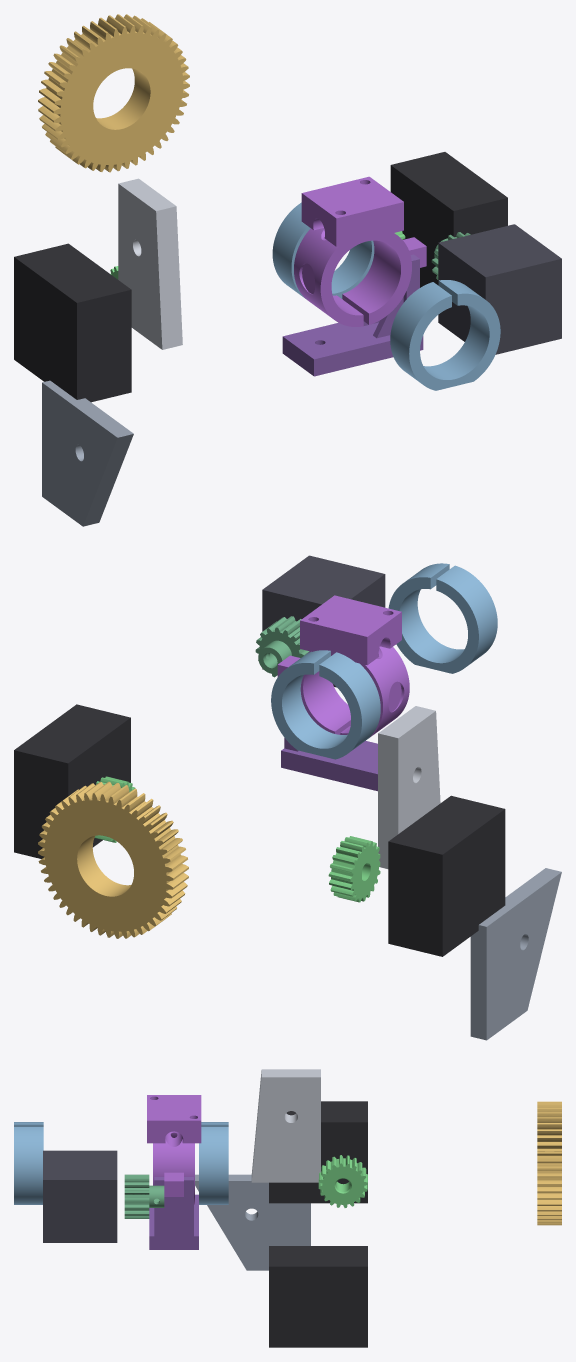
File: full_assembly.glb
The picture shows the model from 3 angles, top to bottom: view 1: azimuth 30°, elevation 25°; view 2: azimuth 150°, elevation 25°; view 3: azimuth 270°, elevation 25°; orthographic projection. The views are drawn at different scales.
Parts seen in each view (by area): view 1: storage_auger_full_1, mg996r_neg_x, tap_collar_1, nema11_motor, baseplate_1, mounting_plate_1, mg996r_pos_x, auger_bracket_2, tap_collar_mount_1, auger_bracket_1; view 2: storage_auger_full_1, mg996r_neg_x, mg996r_pos_x, tap_collar_1, baseplate_1, auger_bracket_1, mounting_plate_1, auger_bracket_2, nema11_motor, tap_collar_mount_1, servo_pinion_2, stepper_pinion_1; view 3: mg996r_pos_x, mounting_plate_1, nema11_motor, baseplate_1, tap_collar_1, mg996r_neg_x, storage_auger_full_1, tap_collar_mount_1, auger_bracket_1, auger_bracket_2, servo_pinion_2, stepper_pinion_1.
Boxes of the visible parts, x1,y1,x2,y2 form: storage_auger_full_1: [38, 14, 189, 172]; mg996r_neg_x: [14, 243, 131, 402]; tap_collar_1: [294, 176, 426, 326]; nema11_motor: [438, 224, 561, 354]; baseplate_1: [42, 380, 133, 526]; mounting_plate_1: [118, 178, 182, 349]; mg996r_pos_x: [390, 152, 507, 287]; auger_bracket_2: [390, 280, 500, 390]; tap_collar_mount_1: [282, 254, 423, 376]; auger_bracket_1: [272, 202, 374, 299]; storage_auger_full_1: [38, 781, 188, 938]; mg996r_neg_x: [388, 795, 505, 956]; mg996r_pos_x: [14, 704, 130, 858]; tap_collar_1: [277, 595, 409, 737]; baseplate_1: [470, 868, 561, 1040]; auger_bracket_1: [271, 650, 380, 759]; mounting_plate_1: [378, 706, 440, 868]; auger_bracket_2: [388, 563, 497, 673]; nema11_motor: [262, 555, 385, 687]; tap_collar_mount_1: [281, 738, 377, 791]; servo_pinion_2: [328, 836, 380, 902]; stepper_pinion_1: [255, 616, 309, 677]; mg996r_pos_x: [269, 1246, 367, 1347]; mounting_plate_1: [251, 1069, 320, 1182]; nema11_motor: [43, 1150, 117, 1242]; baseplate_1: [195, 1174, 310, 1270]; tap_collar_1: [147, 1095, 201, 1204]; mg996r_neg_x: [269, 1101, 367, 1203]; storage_auger_full_1: [537, 1101, 561, 1225]; tap_collar_mount_1: [149, 1177, 198, 1249]; auger_bracket_1: [199, 1122, 228, 1204]; auger_bracket_2: [14, 1122, 43, 1204]; servo_pinion_2: [318, 1155, 367, 1207]; stepper_pinion_1: [124, 1174, 164, 1218].
Bounding box in the file's own units: 161 × 108 × 221.
